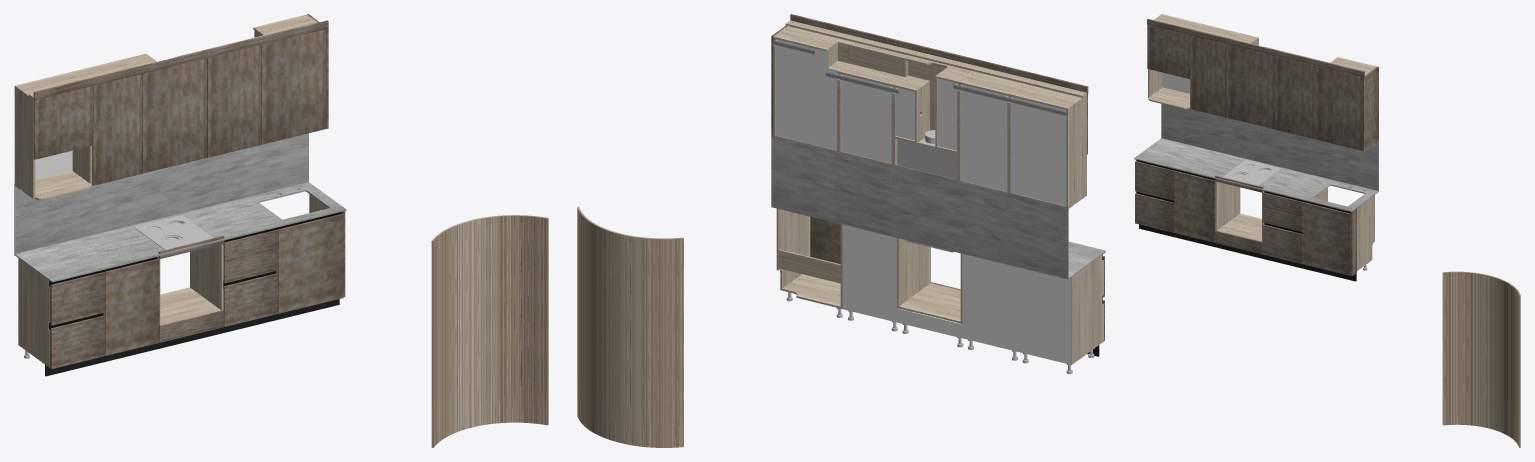
The picture shows the model from 3 angles, left to right: view 1: azimuth 30°, elevation 25°; view 2: azimuth 150°, elevation 25°; view 3: azimuth 330°, elevation 25°; orthographic projection. The views are drawn at different scales.
Parts seen in each view (by area): view 1: node_0117, node_0066, node_0067, node_0116, node_0085, node_0019, node_0082, node_0106, node_0052, node_0075, node_0062, node_0065 (+17 smaller); view 2: node_0117, node_0066, node_0107, node_0072, node_0023, node_0054, node_0048, node_0101, node_0077, node_0062, node_0065, node_0069 (+21 smaller); view 3: node_0117, node_0066, node_0067, node_0116, node_0085, node_0019, node_0082, node_0106, node_0052, node_0075, node_0065, node_0111 (+14 smaller).
Part boxes in pixels (x1=…): node_0117: x1=431, y1=215, x2=548, y2=447; node_0066: x1=14, y1=133, x2=308, y2=253; node_0067: x1=14, y1=182, x2=346, y2=282; node_0116: x1=261, y1=29, x2=326, y2=144; node_0085: x1=142, y1=58, x2=207, y2=173; node_0019: x1=277, y1=213, x2=343, y2=313; node_0082: x1=207, y1=45, x2=261, y2=157; node_0106: x1=92, y1=74, x2=142, y2=185; node_0052: x1=104, y1=258, x2=159, y2=355; node_0075: x1=33, y1=86, x2=92, y2=159; node_0062: x1=18, y1=258, x2=50, y2=366; node_0065: x1=33, y1=20, x2=328, y2=100; node_0117: x1=577, y1=206, x2=683, y2=447; node_0066: x1=771, y1=135, x2=1068, y2=278; node_0107: x1=775, y1=39, x2=838, y2=150; node_0072: x1=1011, y1=96, x2=1066, y2=206; node_0023: x1=842, y1=224, x2=896, y2=322; node_0054: x1=1017, y1=267, x2=1071, y2=364; node_0048: x1=962, y1=254, x2=1016, y2=351; node_0101: x1=961, y1=84, x2=1008, y2=191; node_0077: x1=840, y1=74, x2=893, y2=163; node_0062: x1=1071, y1=255, x2=1103, y2=362; node_0065: x1=790, y1=14, x2=1088, y2=94; node_0069: x1=1066, y1=95, x2=1086, y2=208; node_0117: x1=1442, y1=271, x2=1520, y2=447; node_0066: x1=1161, y1=104, x2=1378, y2=190; node_0067: x1=1134, y1=138, x2=1378, y2=212; node_0116: x1=1315, y1=65, x2=1362, y2=150; node_0085: x1=1227, y1=44, x2=1274, y2=129; node_0019: x1=1302, y1=202, x2=1350, y2=275; node_0082: x1=1275, y1=56, x2=1314, y2=139; node_0106: x1=1190, y1=35, x2=1227, y2=117; node_0052: x1=1175, y1=171, x2=1215, y2=242; node_0075: x1=1147, y1=25, x2=1190, y2=79; node_0065: x1=1147, y1=19, x2=1364, y2=77; node_0111: x1=1362, y1=66, x2=1378, y2=151.
Size of the model in its own units: 4.72 by 4.01 by 0.6.
Materials: 18 (5 with a texture image).
